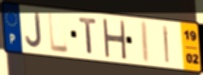H: (101, 17, 128, 61)
I: (141, 20, 151, 65), (162, 24, 171, 65)
J: (24, 11, 43, 49)
L: (47, 12, 71, 55)
T: (77, 17, 98, 56)
